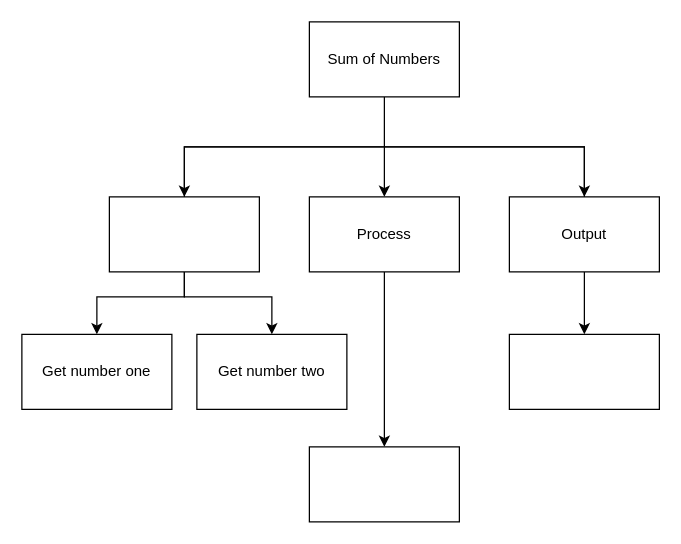
Some shapes in this 681 by 544 pixel diagram are drawn without their labels. Here are the shapes that lost their labels. From the top down, the centre of each, then its label:
the point at 183,234: Input
the point at 583,371: Show sum
the point at 383,484: sum = x + y
